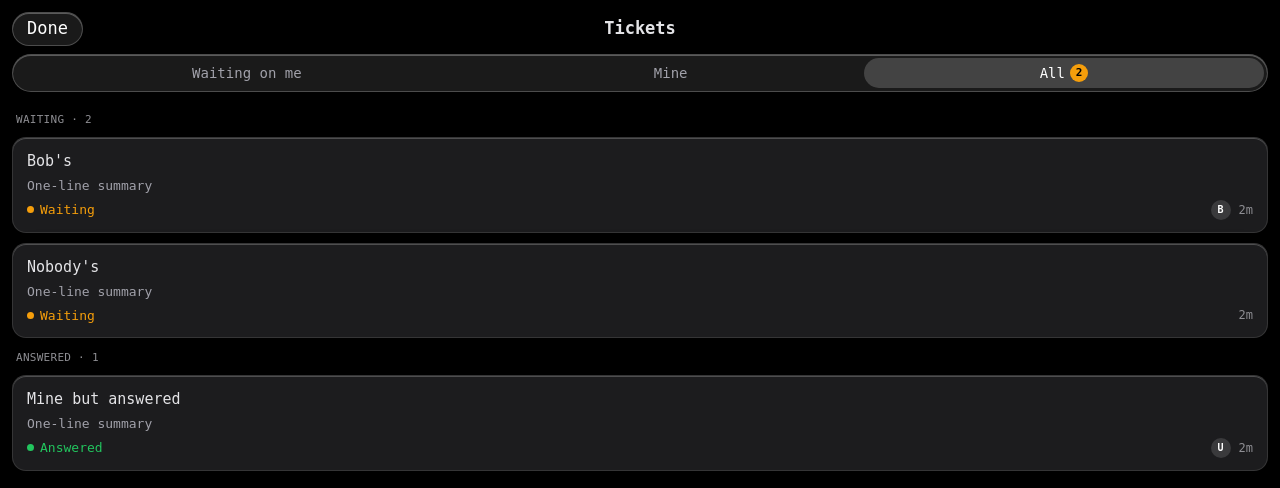
Tickets list › opens on All when nothing waits on me but something waits elsewhere
expect the text "Bob's" is shown: met, box [27,152,72,170]
expect the text with test id "scope-count-all" reads "2": met, box [1076,66,1082,79]
A tap still wins over the smart default.
Click the tab with test id "scope-waiting".
click(247, 73)  # box [16,58,478,88]
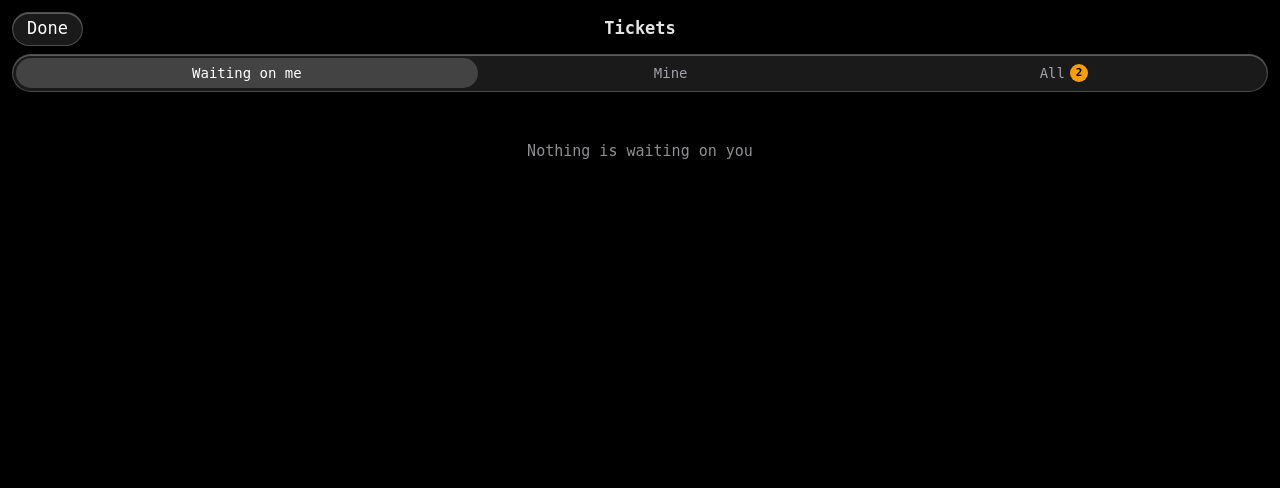
expect the text with test id "tickets-empty" reads "Nothing is waiting on you": met, box [527,142,753,160]
